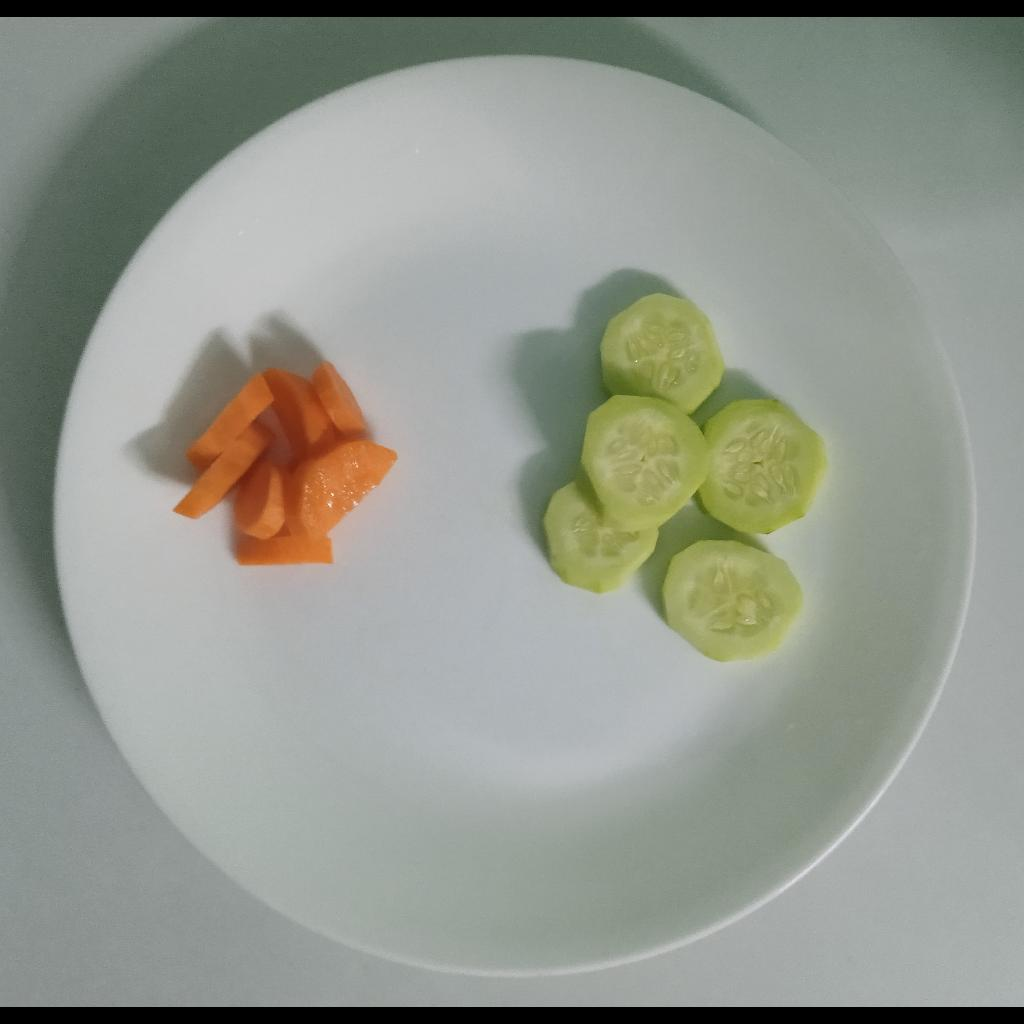carrot: (172, 359, 397, 566)
cucumber: (540, 293, 829, 592), (662, 540, 803, 663)
